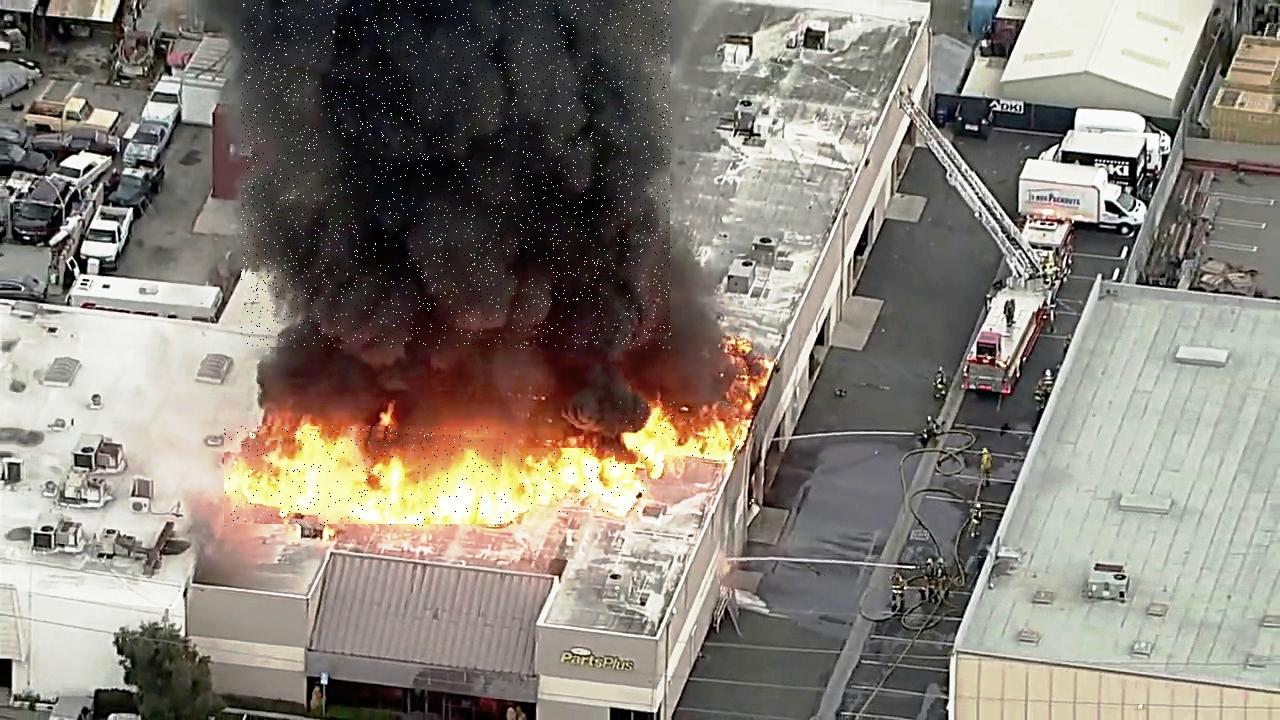fire: (225, 427, 507, 527), (510, 449, 647, 516), (615, 402, 740, 467)
smoke: (242, 0, 673, 348)
